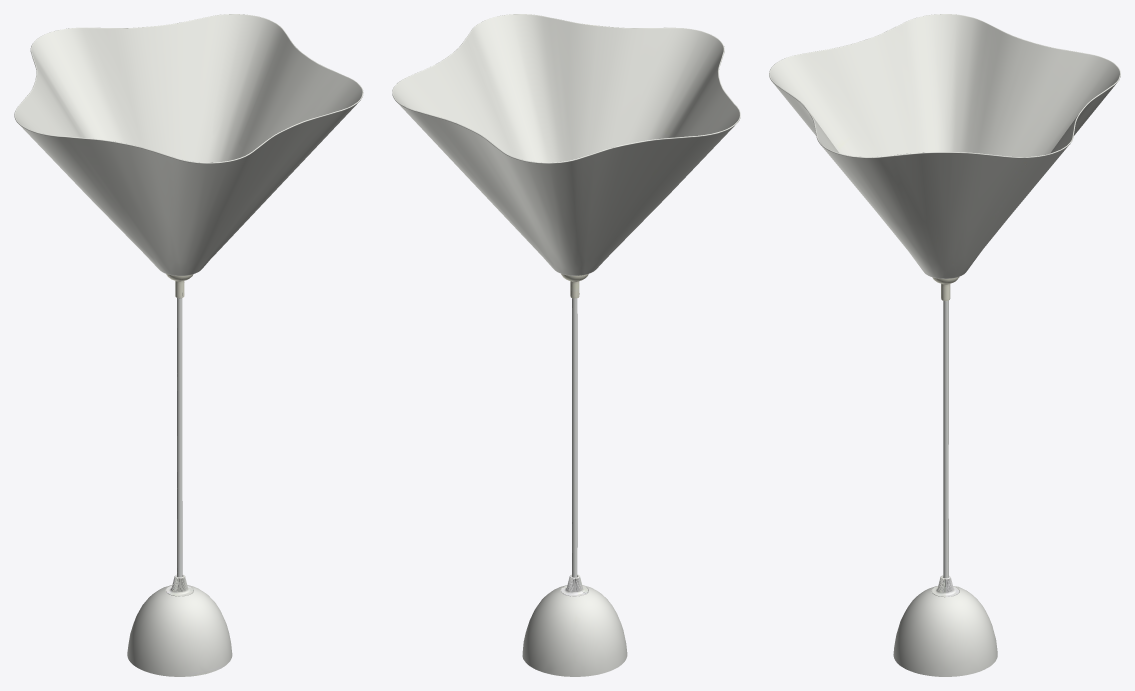
The model's file is zebrasav_lampa_wiszaca_10522481.glb.
3 views of the same model, side by side, from view 1: azimuth 30°, elevation 25°; view 2: azimuth 150°, elevation 25°; view 3: azimuth 270°, elevation 25° (orthographic).
Visible parts, largest first — view 1: zebrasav_lampa_wiszaca_10522481; view 2: zebrasav_lampa_wiszaca_10522481; view 3: zebrasav_lampa_wiszaca_10522481.
Part boxes in pixels (bbox=[...]): zebrasav_lampa_wiszaca_10522481: bbox=[14, 14, 363, 676]; zebrasav_lampa_wiszaca_10522481: bbox=[392, 14, 740, 676]; zebrasav_lampa_wiszaca_10522481: bbox=[769, 14, 1120, 676].
Bounding box in the file's own units: 0.4305 × 0.7888 × 0.4457.
1 material, 1 textured.
